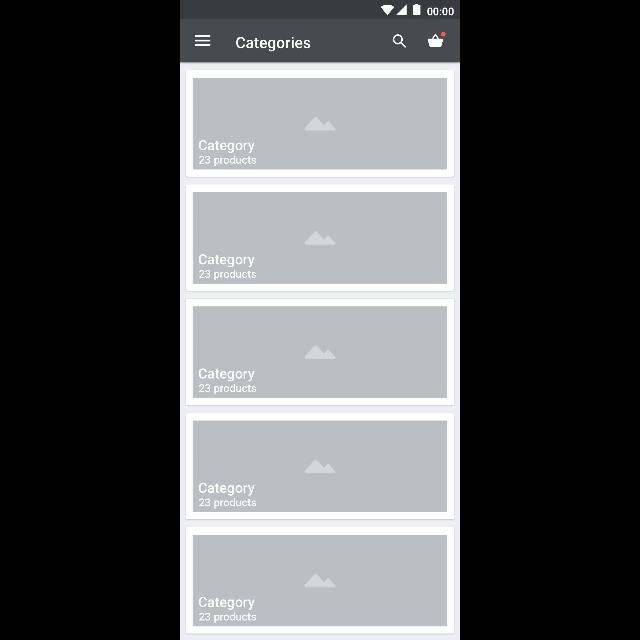icon: (428, 32, 448, 48), (394, 35, 408, 49), (195, 36, 211, 46)
image: (192, 78, 448, 170), (192, 534, 448, 626), (194, 192, 448, 284), (194, 306, 448, 398), (194, 421, 448, 512)
panel: (186, 526, 456, 634), (187, 412, 456, 520), (187, 298, 456, 406), (187, 70, 456, 178), (187, 185, 456, 292)
text: (236, 36, 312, 52), (199, 140, 255, 154), (199, 368, 255, 382), (199, 482, 255, 496), (199, 596, 255, 610), (199, 255, 255, 268), (199, 612, 257, 624), (199, 156, 257, 166), (199, 270, 257, 280), (199, 384, 257, 394), (199, 499, 257, 509)
toolbar: (181, 19, 461, 62)
uppertaskbar: (181, 1, 461, 19)
